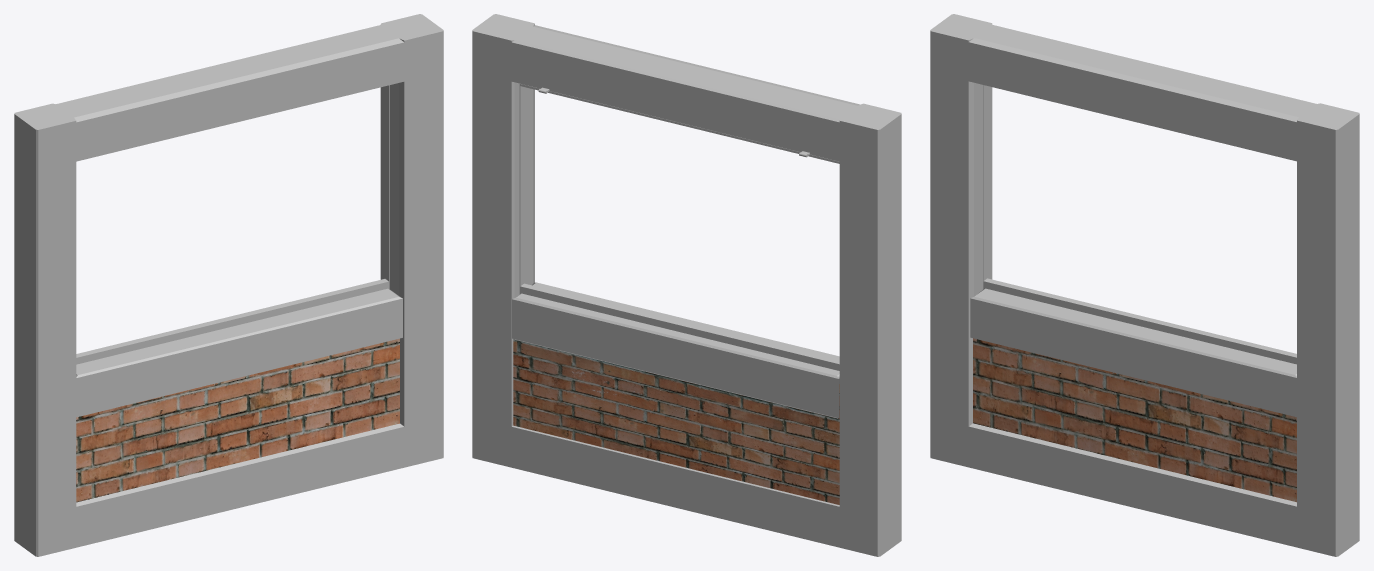
File: House Half Brick Shutter Large.fbx
3 renders of one model, left to right at view 1: azimuth 30°, elevation 25°; view 2: azimuth 150°, elevation 25°; view 3: azimuth 330°, elevation 25°, orthographic.
Parts seen in each view (by area): view 1: House Half Timber Window; view 2: House Half Timber Window; view 3: House Half Timber Window.
Boxes of the visible parts, x1,y1,x2,y2 form: House Half Timber Window: (14,14,443,556); House Half Timber Window: (472,14,901,556); House Half Timber Window: (930,14,1359,556).
Size of the model in its own units: 250 by 250 by 28.93.
